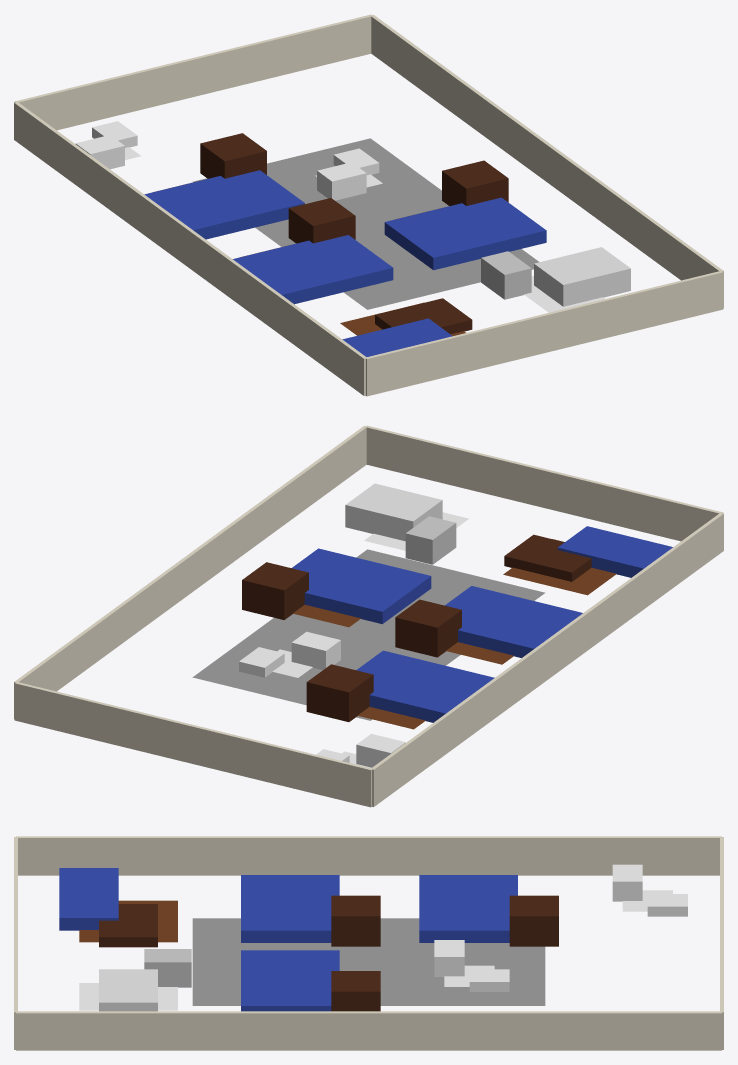
Rendered from boq_professional_d0792f37-ff30-4ab0-96bc-85b38134dc13.obj.
The picture shows the model from 3 angles, top to bottom: view 1: azimuth 30°, elevation 25°; view 2: azimuth 150°, elevation 25°; view 3: azimuth 270°, elevation 25°; orthographic projection.
Visible parts, largest first — view 1: ExteriorWall_West, ExteriorWall_South, ExteriorWall_East, ExteriorWall_North, Foundation, Bed_Bedroom_2, Bed_Bedroom_1, Bed_Bedroom_3, Counter_Kitchen_1, Wardrobe_Bedroom_1, Wardrobe_Bedroom_3, Wardrobe_Bedroom_2 (+8 smaller); view 2: ExteriorWall_West, ExteriorWall_North, ExteriorWall_East, ExteriorWall_South, Foundation, Bed_Bedroom_2, Bed_Bedroom_3, Bed_Bedroom_1, Counter_Kitchen_1, Sofa_Living_Room_1, Wardrobe_Bedroom_3, Wardrobe_Bedroom_1 (+10 smaller); view 3: ExteriorWall_East, ExteriorWall_West, Foundation, Bed_Bedroom_1, Bed_Bedroom_3, Bed_Bedroom_2, Sofa_Living_Room_1, Wardrobe_Bedroom_1, Wardrobe_Bedroom_3, Counter_Kitchen_1, CoffeeTable_Living_Room_1, Wardrobe_Bedroom_2 (+11 smaller).
Boxes of the visible parts, x1,y1,x2,y2 form: ExteriorWall_West: (14, 102, 366, 395); ExteriorWall_South: (365, 271, 723, 396); ExteriorWall_East: (371, 15, 723, 308); ExteriorWall_North: (14, 14, 372, 130); Foundation: (192, 138, 539, 309); Bed_Bedroom_2: (384, 197, 546, 270); Bed_Bedroom_1: (233, 235, 393, 304); Bed_Bedroom_3: (144, 170, 304, 239); Counter_Kitchen_1: (534, 247, 630, 306); Wardrobe_Bedroom_1: (288, 198, 355, 243); Wardrobe_Bedroom_3: (200, 133, 266, 178); Wardrobe_Bedroom_2: (442, 160, 508, 205); ExteriorWall_West: (371, 513, 723, 806); ExteriorWall_North: (14, 682, 372, 807); ExteriorWall_East: (14, 426, 366, 719); ExteriorWall_South: (365, 425, 723, 541); Foundation: (192, 549, 545, 720); Bed_Bedroom_2: (291, 548, 431, 624); Bed_Bedroom_3: (356, 650, 494, 722); Bed_Bedroom_1: (445, 586, 582, 657); Counter_Kitchen_1: (345, 483, 442, 541); Sofa_Living_Room_1: (557, 526, 672, 577); Wardrobe_Bedroom_3: (306, 664, 373, 721); Wardrobe_Bedroom_1: (395, 599, 461, 657); ExteriorWall_East: (16, 1011, 721, 1050); ExteriorWall_West: (16, 836, 721, 875); Foundation: (192, 918, 545, 1005); Bed_Bedroom_1: (241, 875, 339, 942); Bed_Bedroom_3: (419, 875, 517, 942); Bed_Bedroom_2: (241, 950, 339, 1011); Sofa_Living_Room_1: (59, 868, 118, 930); Wardrobe_Bedroom_1: (331, 895, 380, 946); Wardrobe_Bedroom_3: (509, 895, 558, 946); Counter_Kitchen_1: (99, 969, 157, 1011); CoffeeTable_Living_Room_1: (99, 904, 157, 947); Wardrobe_Bedroom_2: (331, 971, 380, 1011).
Bounding box in the file's own units: 30.3 × 3 × 51.36.
